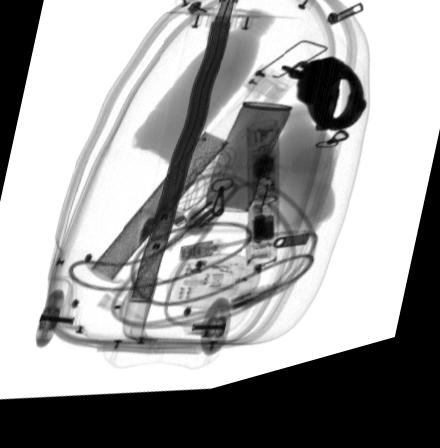Baton: (243, 132, 276, 279)
HandCuffs: (279, 74, 365, 151)
